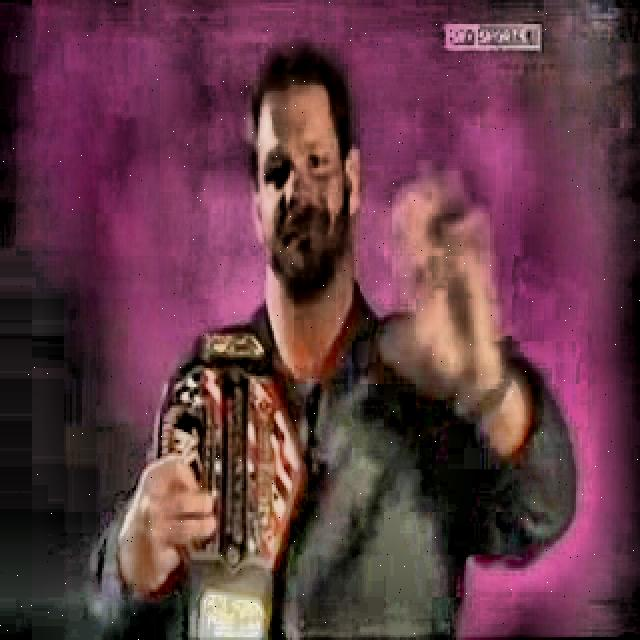L: (90, 44, 574, 636)
